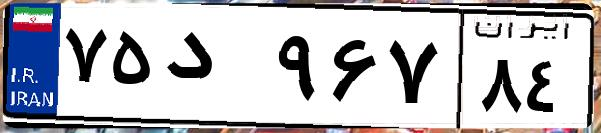4: (525, 38, 570, 115)
5: (110, 28, 158, 98)
6: (330, 28, 385, 110)
7: (385, 28, 445, 110), (57, 26, 110, 100)
8: (475, 38, 525, 113)
9: (270, 28, 330, 110)
د: (158, 20, 270, 120)
